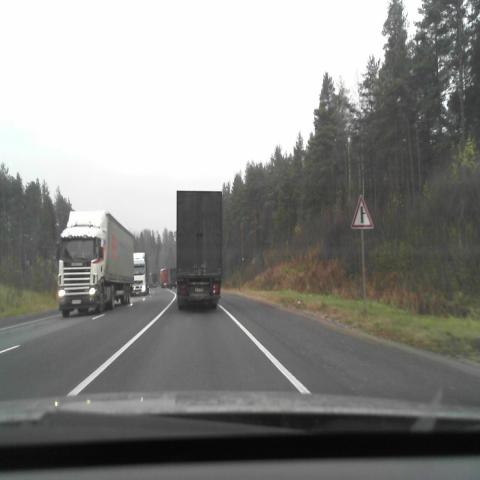2_3_2: (350, 194, 374, 228)
